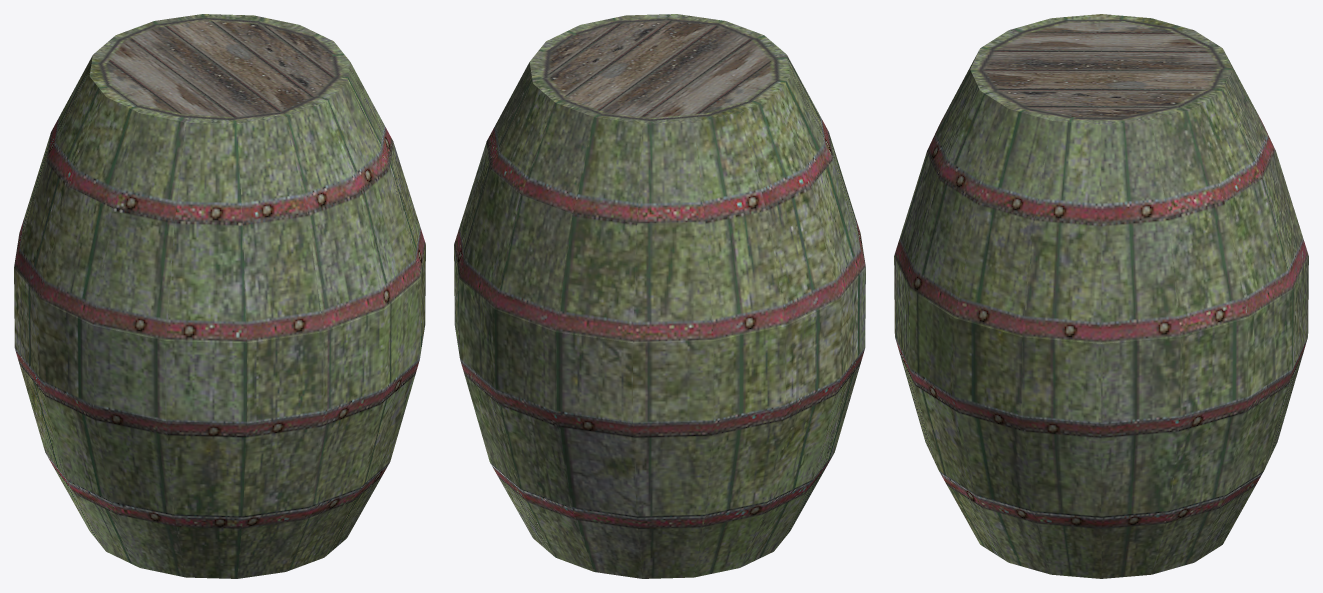
The model's file is woodBarrel_obj.obj.
3 views of the same model, side by side, from view 1: azimuth 30°, elevation 25°; view 2: azimuth 150°, elevation 25°; view 3: azimuth 270°, elevation 25° (orthographic).
Bounding box in the file's own units: 123 × 149 × 123.
1 material, 1 textured.
